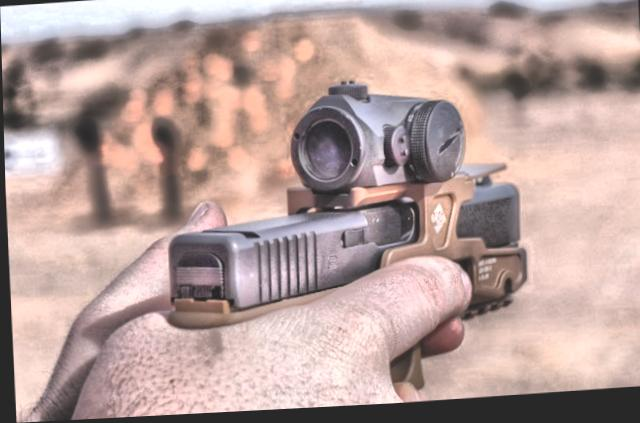pistol: (141, 180, 537, 377)
